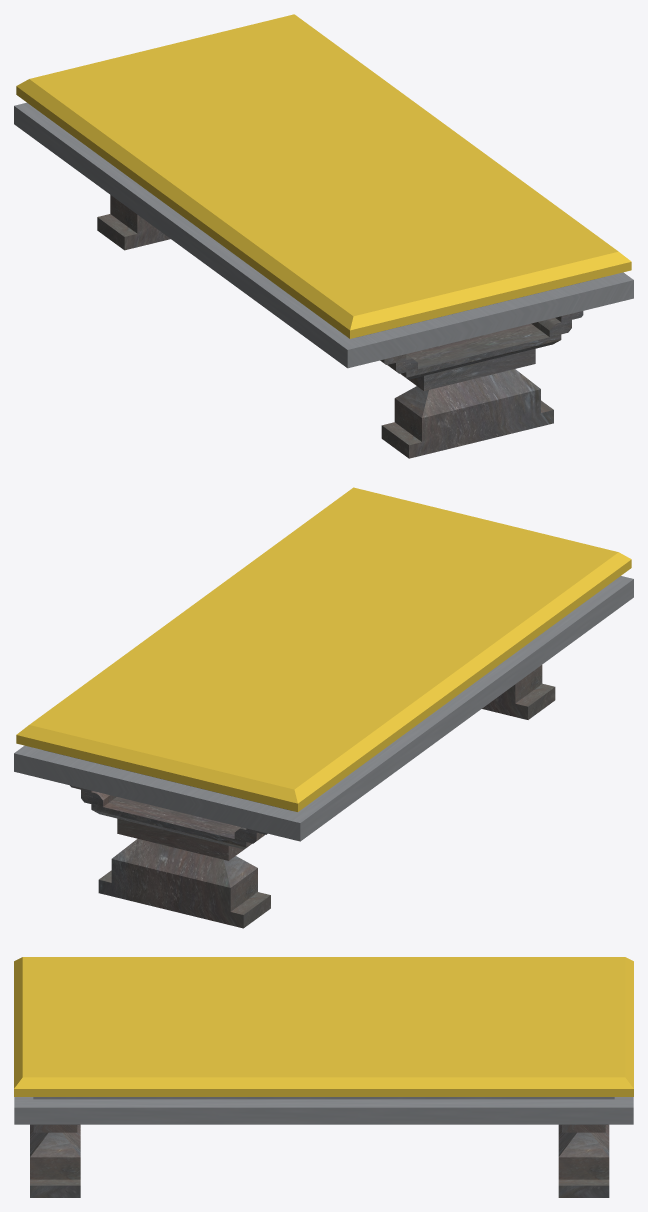
The model's file is Bench.fbx.
3 views of the same model, one above another, from view 1: azimuth 30°, elevation 25°; view 2: azimuth 150°, elevation 25°; view 3: azimuth 270°, elevation 25° (orthographic). The views are drawn at different scales.
Visible parts, largest first — view 1: Bench; view 2: Bench; view 3: Bench.
Boxes of the visible parts, box(x1,y1,x2,y2) form: Bench: box(14, 14, 633, 458); Bench: box(14, 487, 633, 928); Bench: box(14, 957, 633, 1197).
Bounding box in the file's own units: 1.49 × 0.7934 × 3.01.
